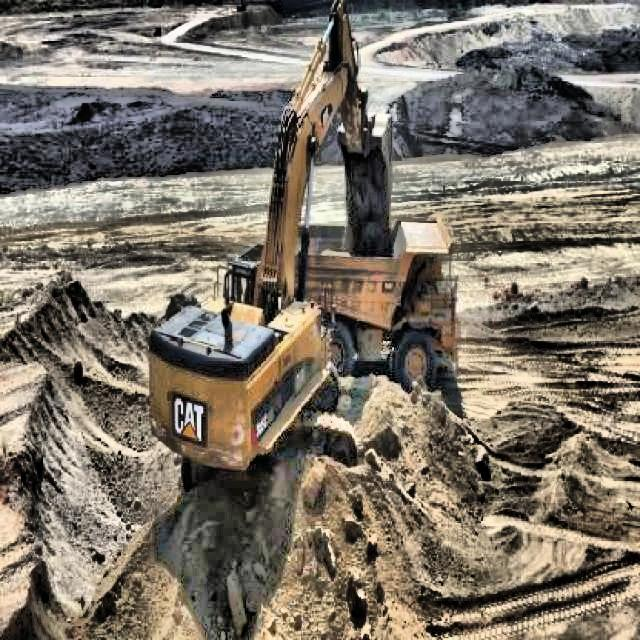dump_truck: (289, 215, 462, 394)
excavator: (138, 0, 398, 502)
